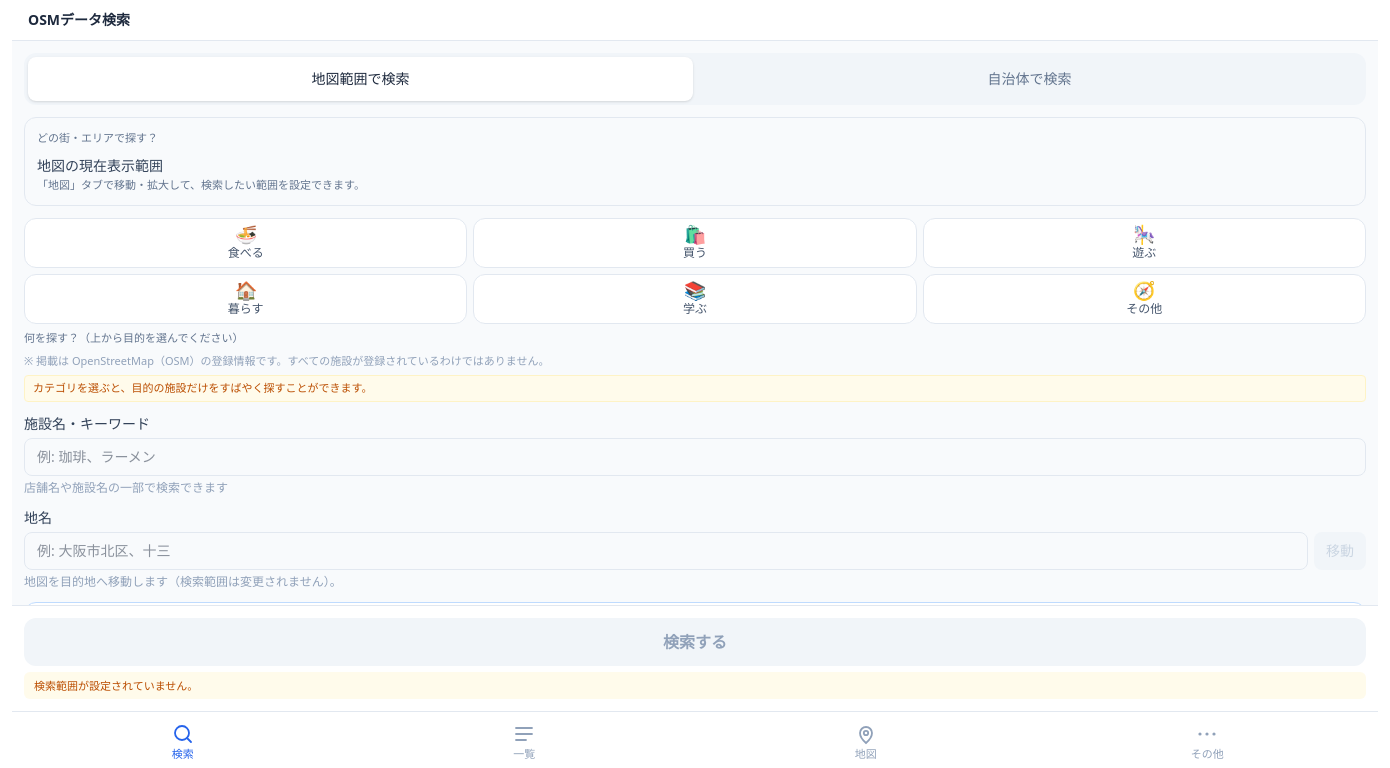
(#59) 一覧タブ: クライアント側フィルタ › 施設名フィルタでカードが絞られ、件数表示も更新される
Click the button "🍜 食べる".
click(246, 243)  # box [24, 218, 467, 268]
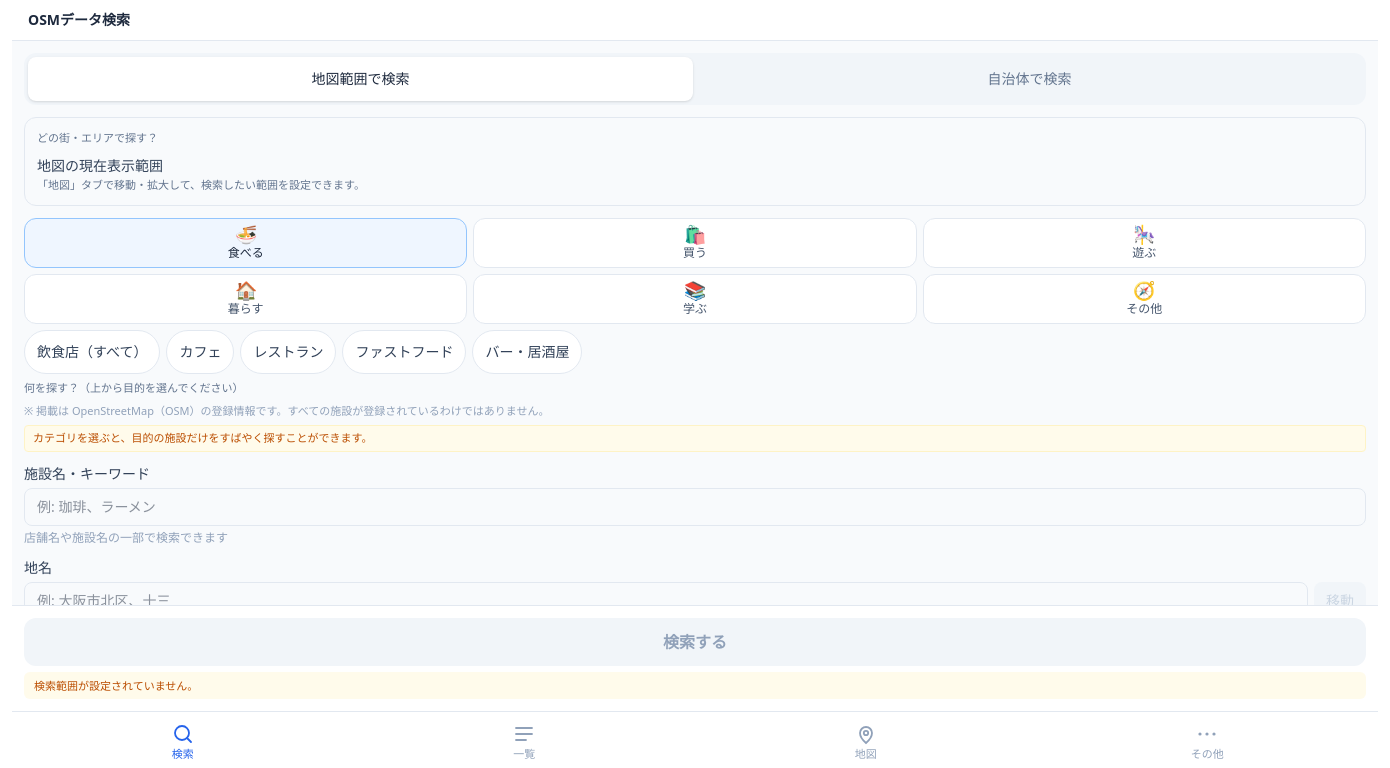
Click the button "カフェ".
click(200, 352)  # box [166, 330, 234, 374]
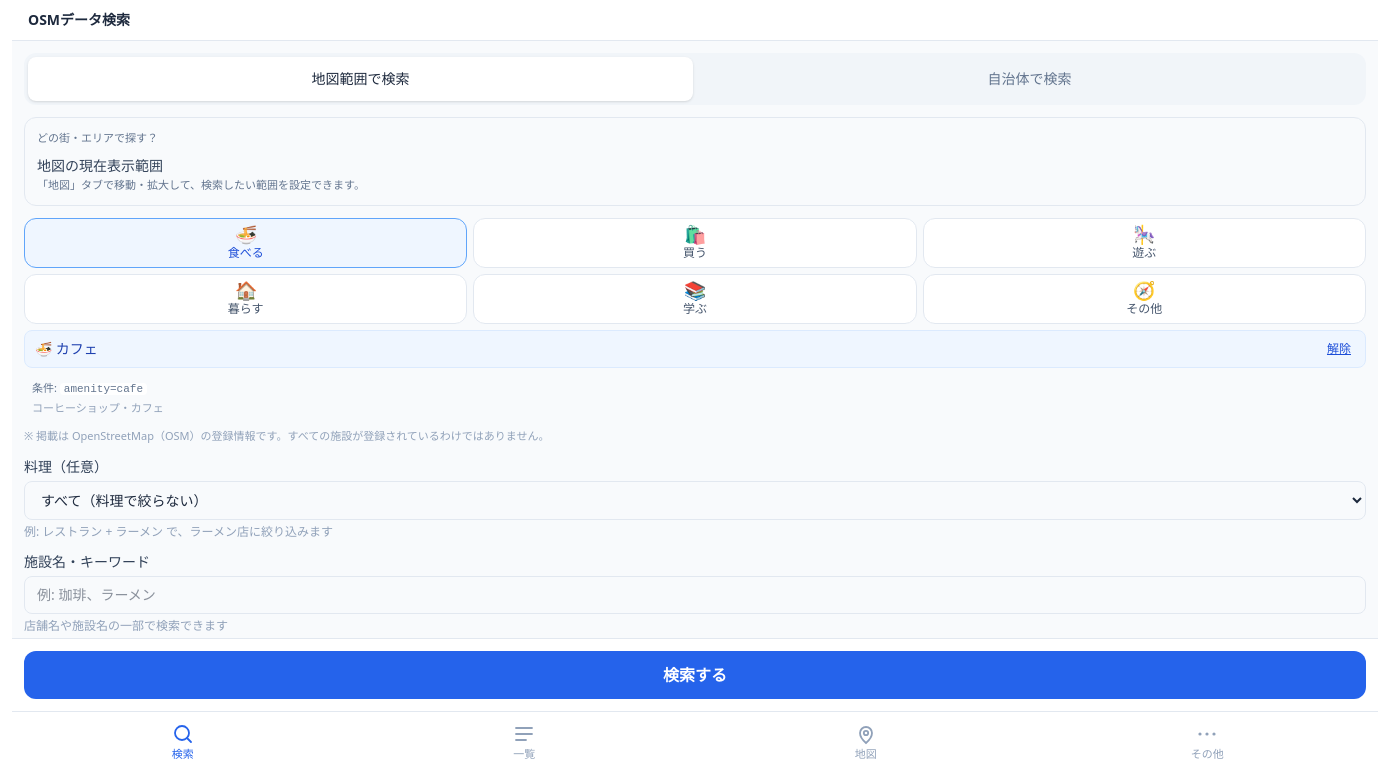
Click the button "検索する".
click(695, 675)  # box [24, 651, 1366, 699]
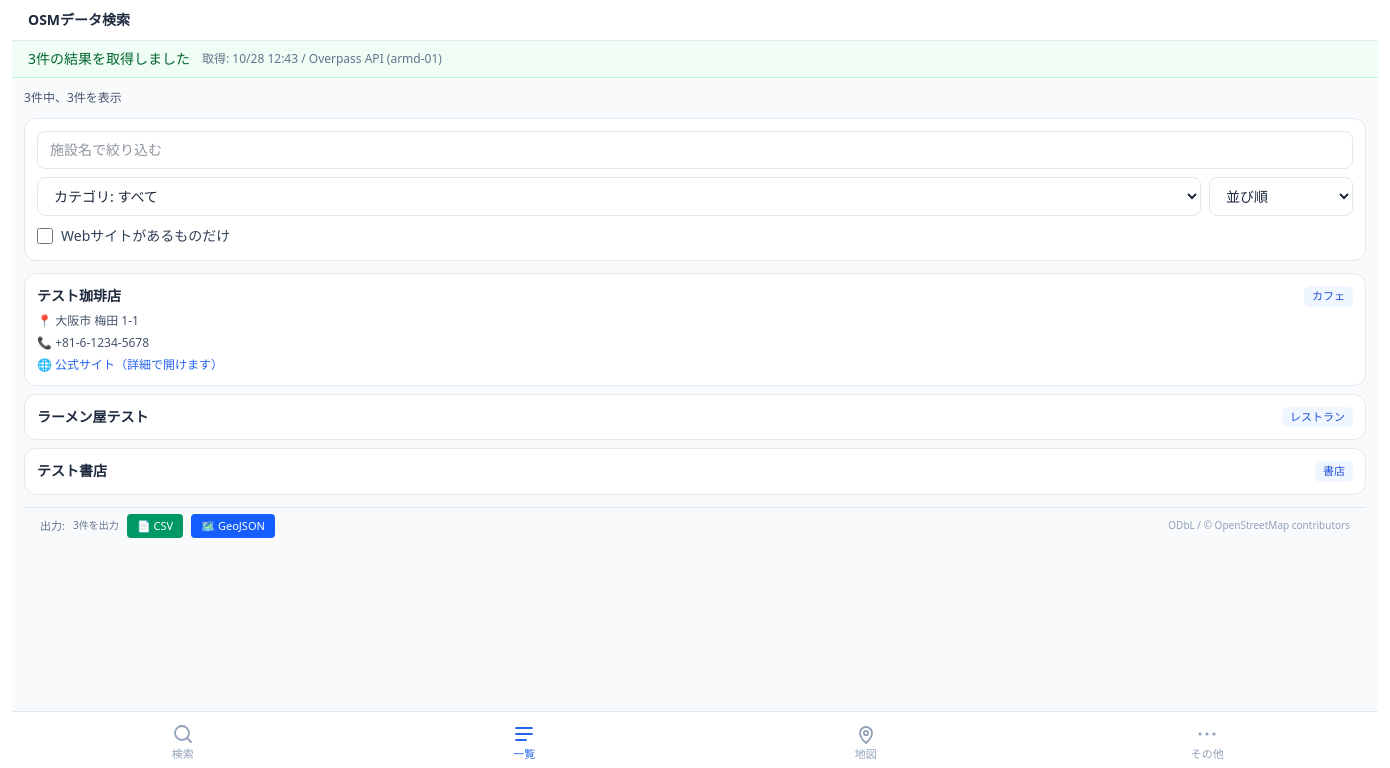
Expected: the text "3件中、3件を表示" is shown, [24, 89, 122, 106]
Type "珈琲" into the field labelled "施設名で絞り込む".
click(695, 150); type("珈琲")  # box [37, 131, 1353, 169]
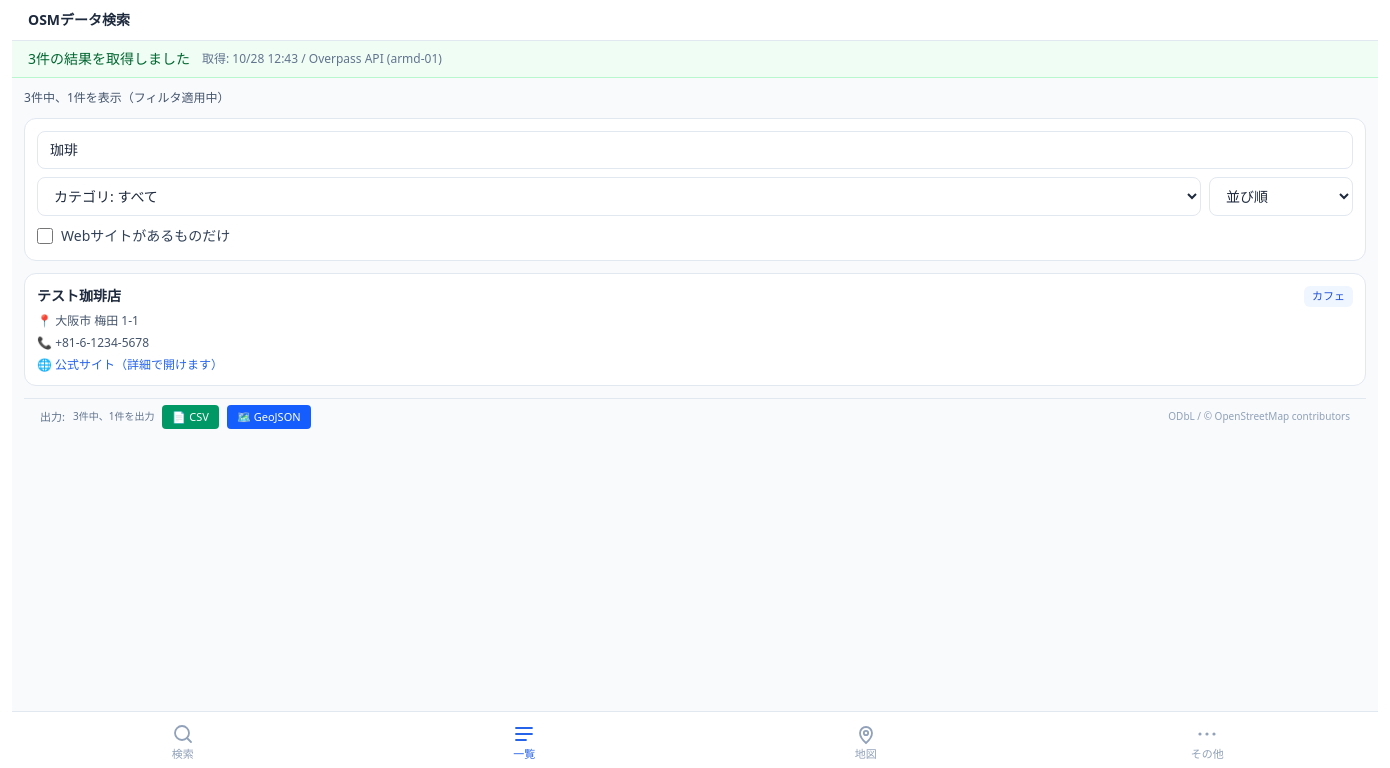
Expected: the button "テスト珈琲店 カフェ 📍 大阪市 梅田 1-1 📞 +81-6-1234-5678 🌐 公式サイト（詳細で開けます）" is shown, [24, 273, 1366, 386]
Expected: the text "3件中、1件を表示（フィルタ適用中）" is shown, [24, 89, 230, 106]
Expected: the button "ラーメン屋テスト" is gone
